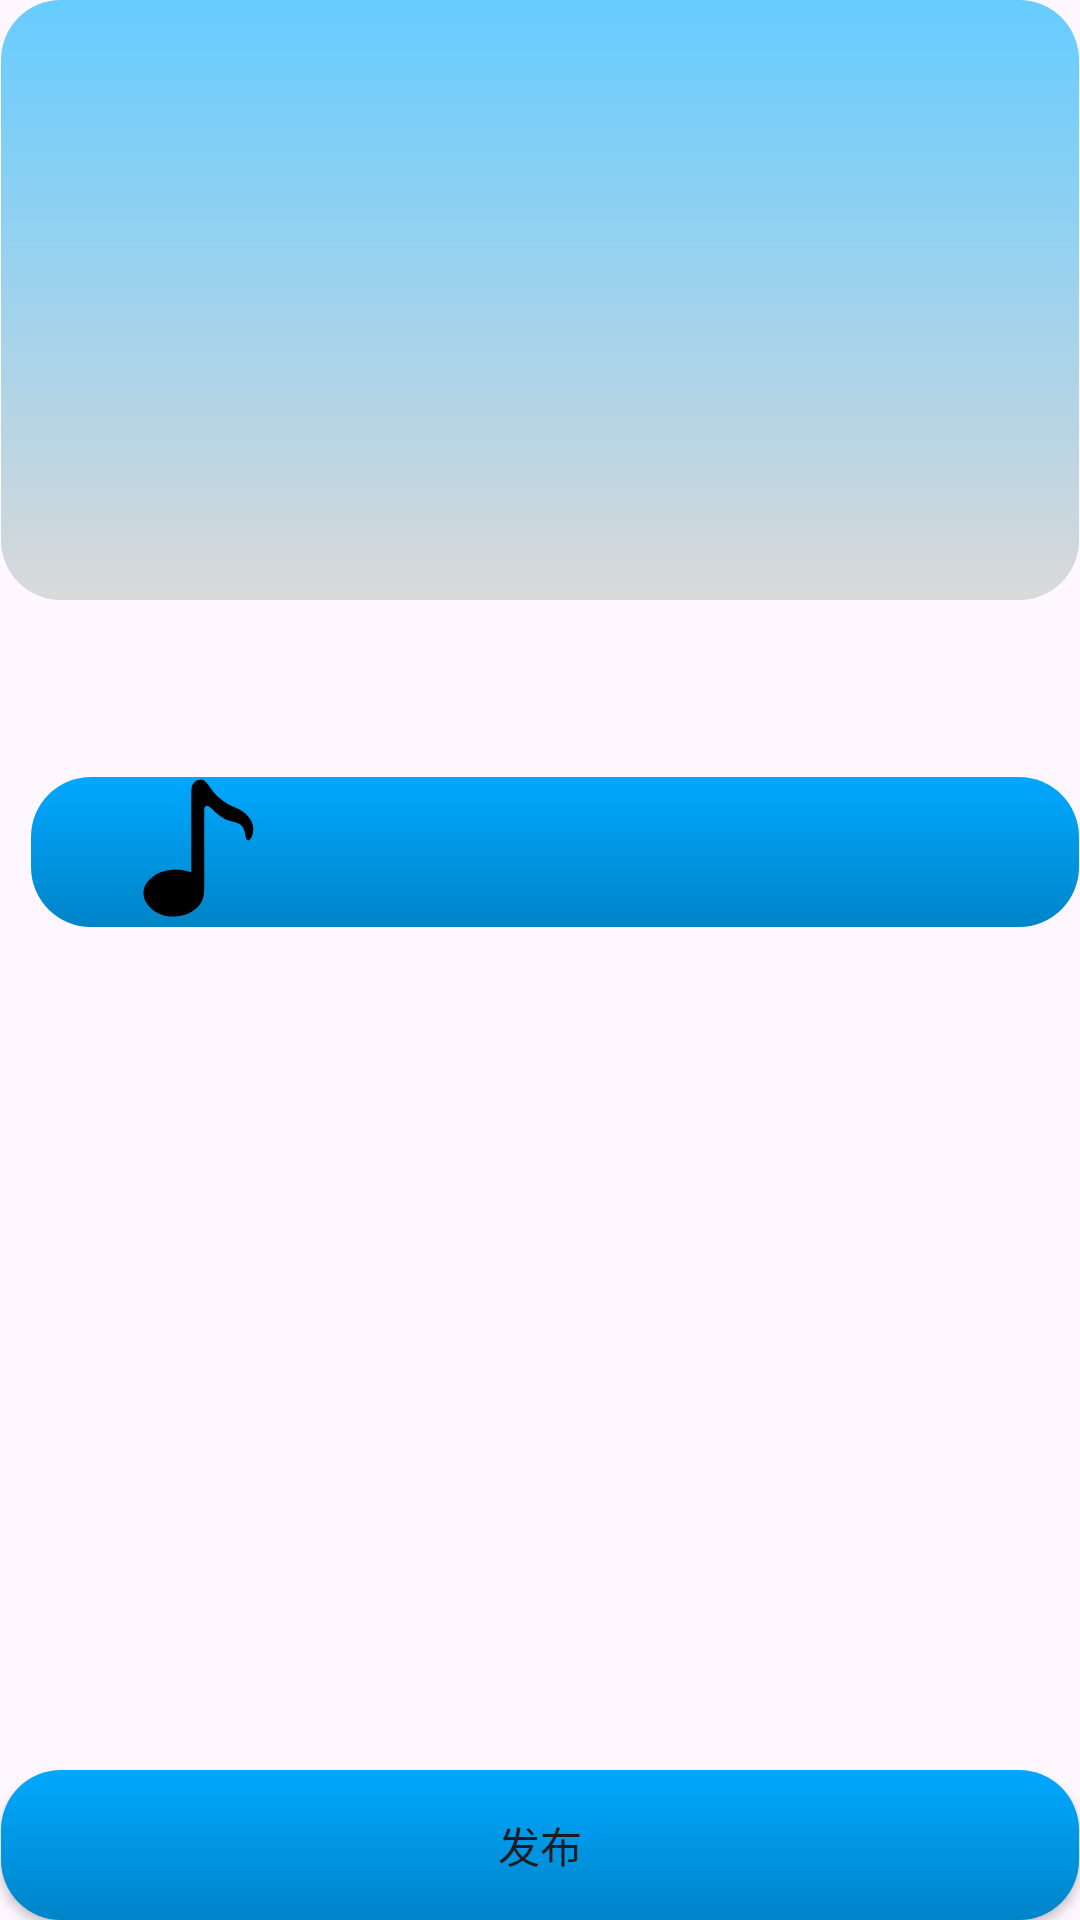

Icon click points for this 1080x1920 phone screenshot, format (x=x, y=y):
music: (x=195, y=852)
